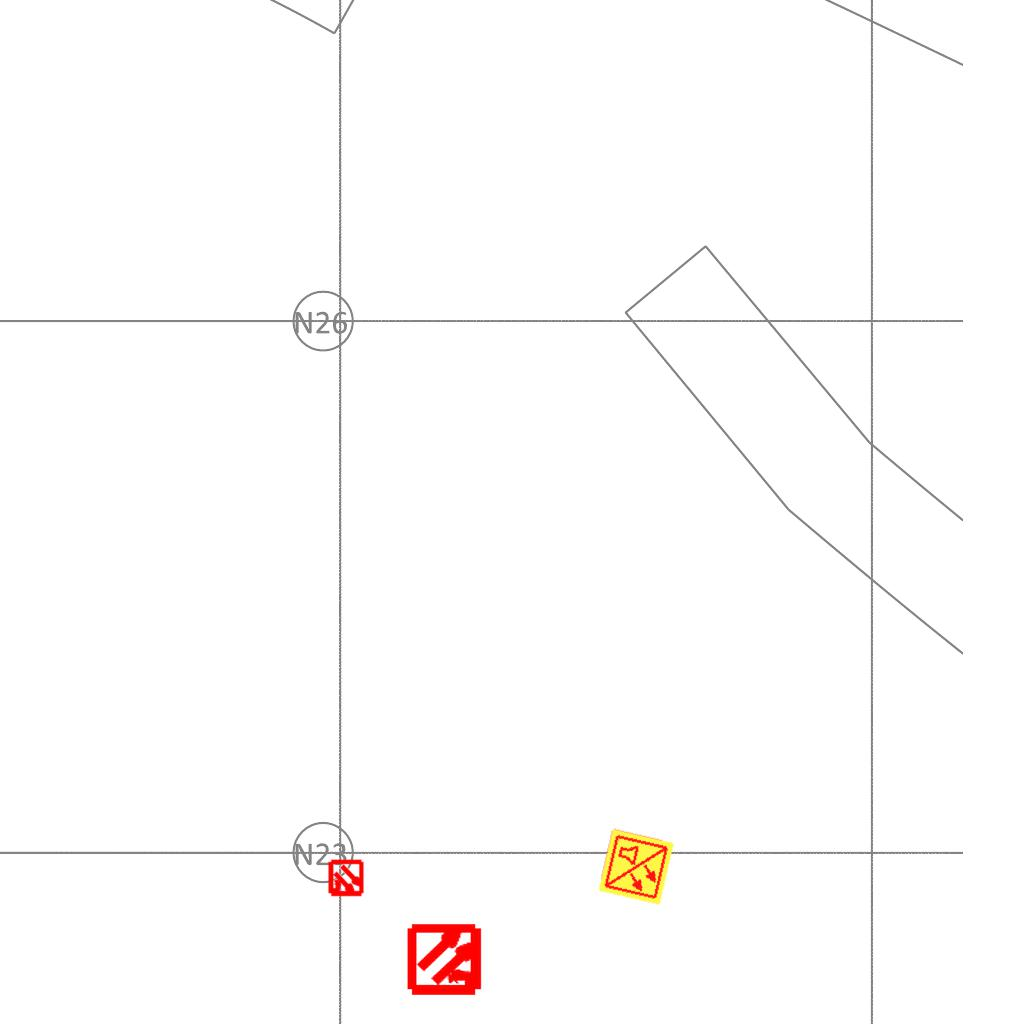OKW_Multisensormelder_(Kombination_optischer_Rauch-Kahlenmonoxid_Waerme-Melder): (596, 827, 676, 907)
OT_Multisensormelder_(Kombination_RMO_WMD): (390, 903, 503, 1016), (318, 851, 374, 907)
